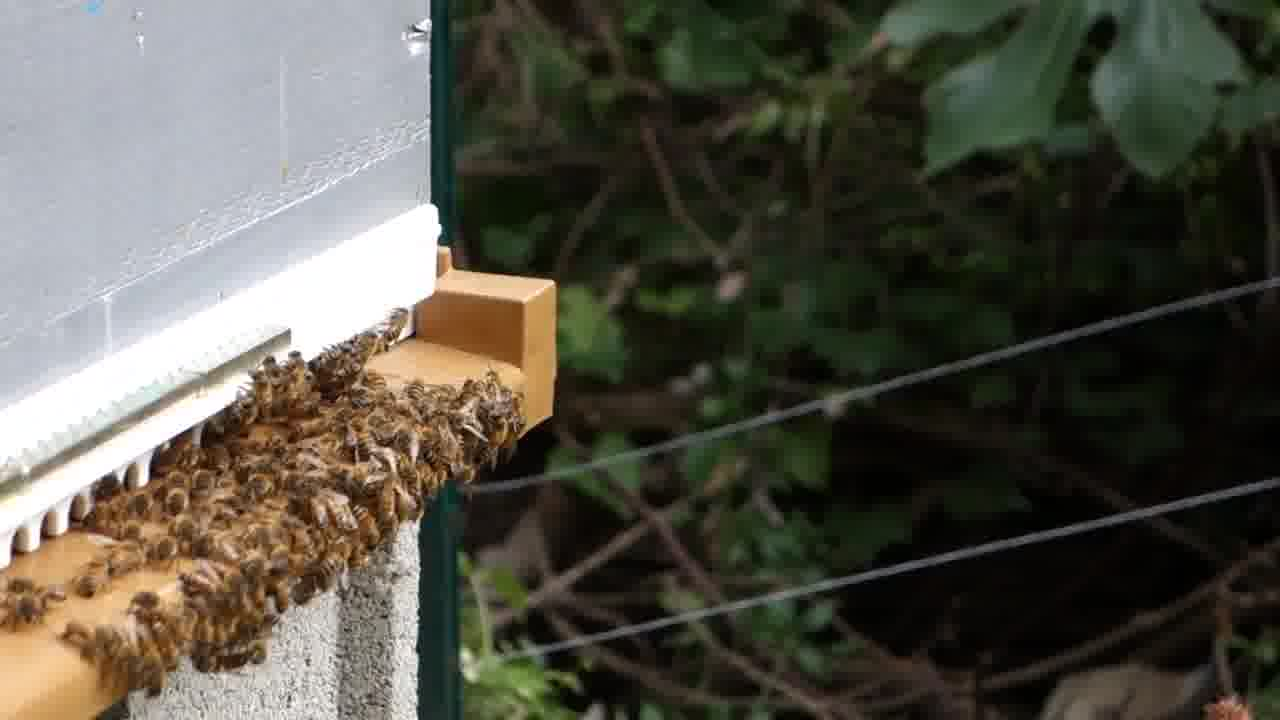bee: (219, 412, 347, 528), (60, 593, 200, 687), (188, 537, 289, 666), (110, 457, 216, 536), (349, 444, 412, 548), (323, 328, 384, 435), (384, 367, 468, 439), (291, 497, 358, 587), (468, 367, 523, 454), (415, 418, 465, 504), (247, 352, 316, 408), (379, 309, 416, 349)
